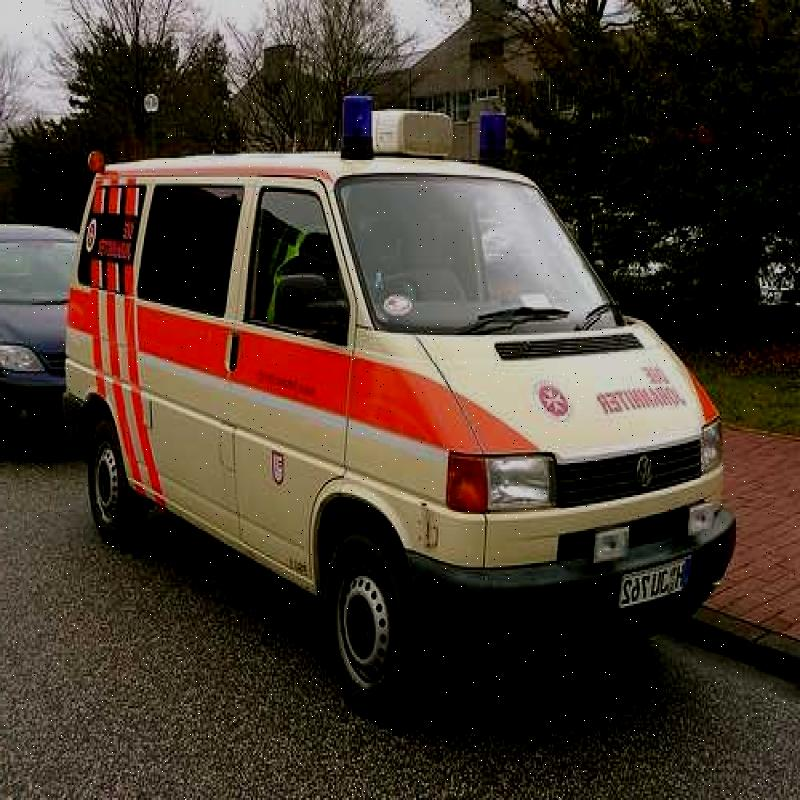AmbulanceSiren: (464, 88, 522, 172), (333, 77, 376, 172)
